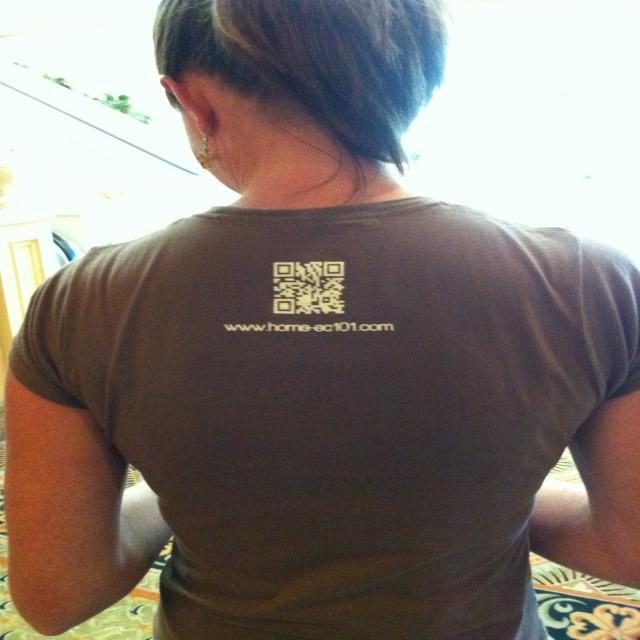qr-code: (273, 262, 345, 314)
